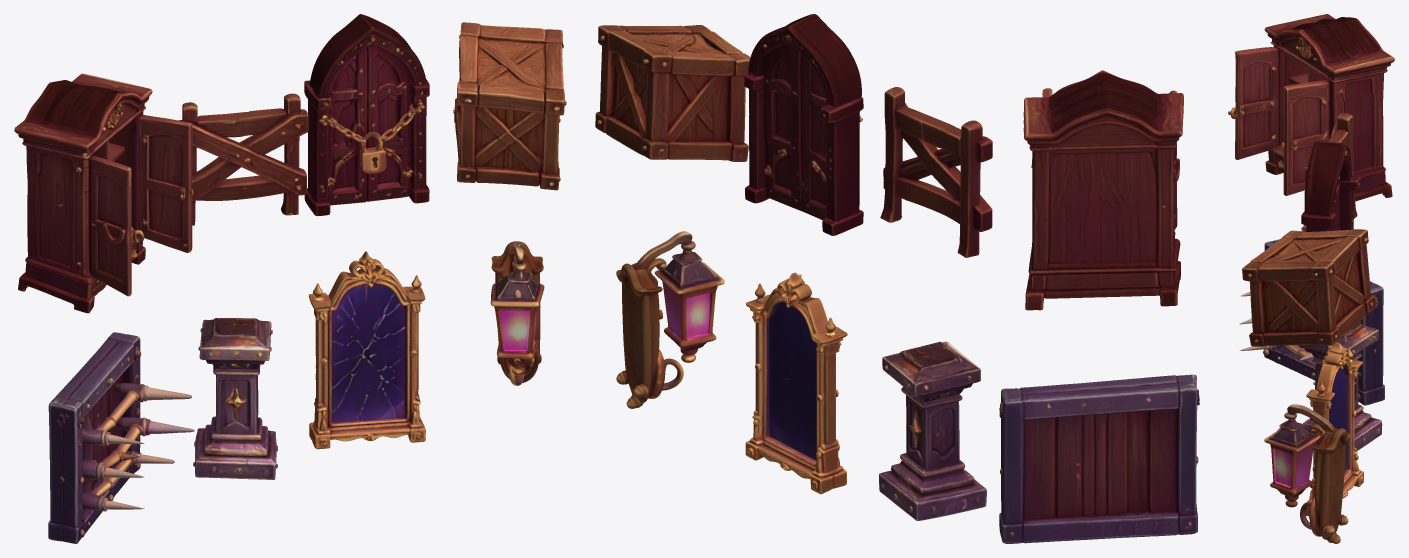
File: maze-props.glb
The picture shows the model from 3 angles, left to right: view 1: azimuth 30°, elevation 25°; view 2: azimuth 150°, elevation 25°; view 3: azimuth 270°, elevation 25°; orthographic projection. The views are drawn at different scales.
Visible parts, largest first — view 1: model; view 2: model; view 3: model.
Boxes of the visible parts, x1,y1,x2,y2 form: model: (14,14,566,543); model: (595,14,1199,543); model: (1228,14,1394,543).
Size of the model in its own units: 1.9 by 1.41 by 0.5942.
Materials: 1 (1 with a texture image).
